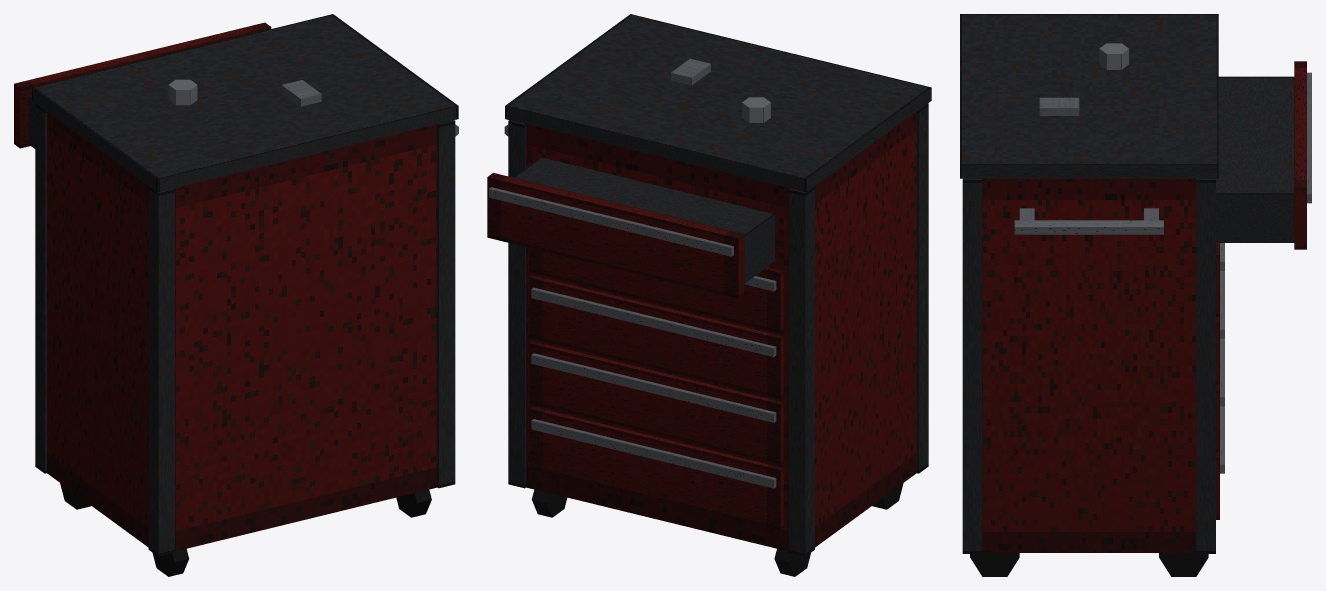
File: tool_chest_cart_command_bridge.glb
3 views of the same model, side by side, from view 1: azimuth 30°, elevation 25°; view 2: azimuth 150°, elevation 25°; view 3: azimuth 270°, elevation 25° (orthographic). The views are drawn at different scales.
Parts seen in each view (by area): view 1: tool_chest_cart_command_bridge; view 2: tool_chest_cart_command_bridge; view 3: tool_chest_cart_command_bridge.
Boxes of the visible parts, bbox=[...] form: tool_chest_cart_command_bridge: bbox=[14, 14, 458, 576]; tool_chest_cart_command_bridge: bbox=[487, 14, 931, 576]; tool_chest_cart_command_bridge: bbox=[960, 14, 1311, 576].
Size of the model in its own units: 0.7839 by 0.9733 by 0.7075.
5 materials, 5 textured.
